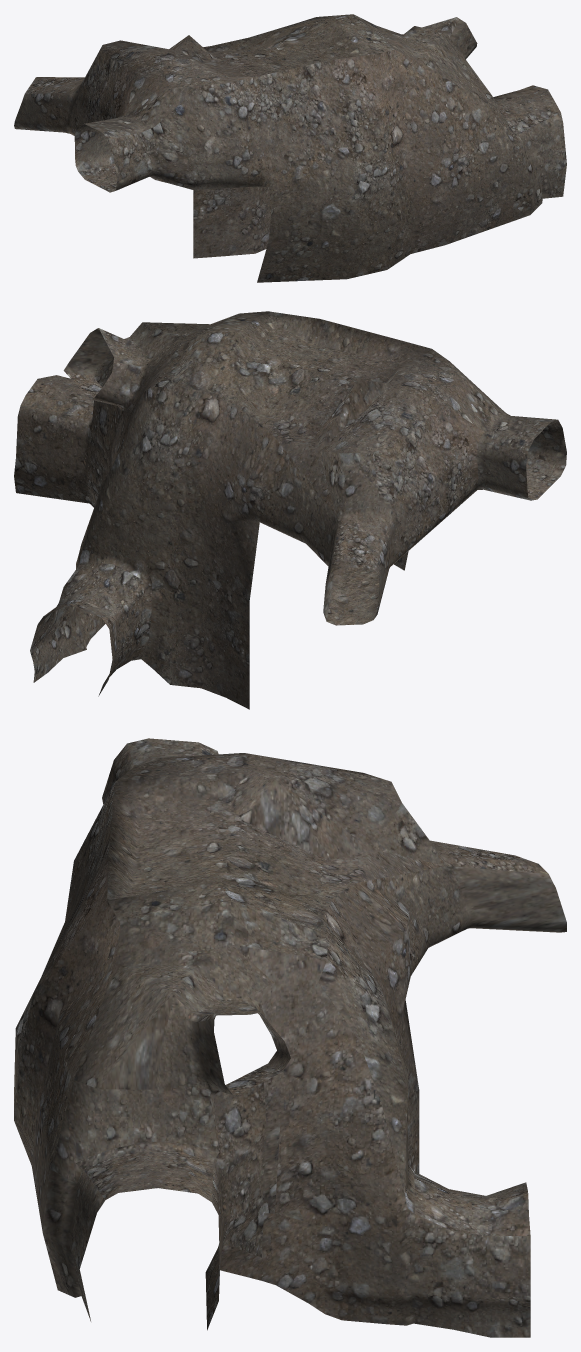
The model's file is cave_dwl_entrance_01.dae.
3 renders of one model, top to bottom at view 1: azimuth 30°, elevation 25°; view 2: azimuth 150°, elevation 25°; view 3: azimuth 270°, elevation 25°, orthographic. The views are drawn at different scales.
Visible parts, largest first — view 1: Mesh; view 2: Mesh; view 3: Mesh.
Boxes of the visible parts, x1,y1,x2,y2 form: Mesh: [14, 14, 566, 282]; Mesh: [14, 311, 566, 709]; Mesh: [14, 738, 566, 1337].
Bounding box in the file's own units: 44.75 × 25.36 × 30.18.
Materials: 1 (1 with a texture image).
